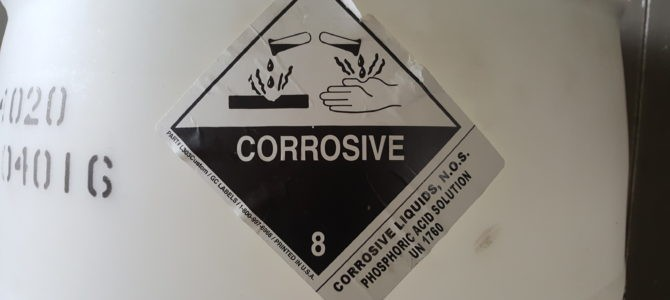Corrosive: (177, 7, 442, 262)
